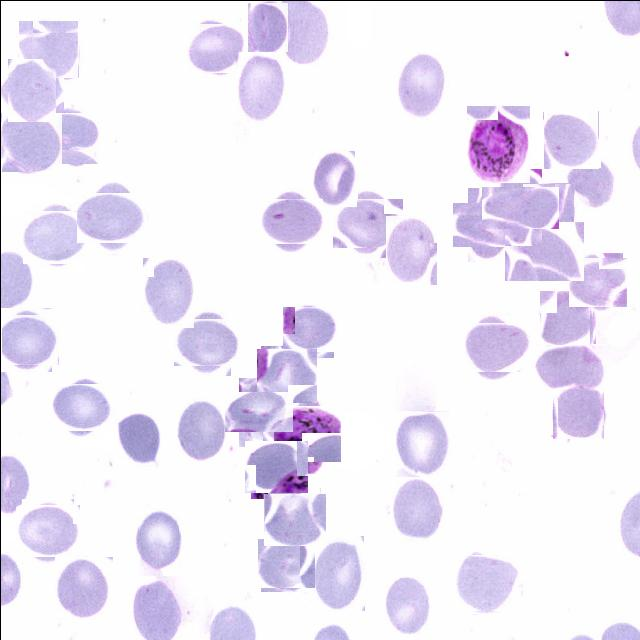difficult: (466, 104, 530, 182)
red blood cell: (504, 221, 583, 280), (312, 534, 364, 610), (0, 110, 61, 172), (26, 206, 87, 267), (81, 187, 142, 248), (394, 410, 450, 476), (142, 256, 194, 327), (385, 214, 437, 284), (337, 192, 397, 252), (490, 176, 550, 236), (235, 51, 285, 122), (456, 552, 515, 612), (54, 556, 112, 617), (459, 194, 518, 253), (18, 19, 78, 77), (390, 476, 443, 541), (18, 501, 76, 560), (174, 397, 226, 462), (177, 312, 235, 370), (247, 437, 305, 495), (258, 346, 316, 404), (397, 51, 447, 118), (265, 490, 322, 548), (542, 111, 600, 168), (534, 343, 604, 390), (468, 318, 524, 376), (538, 291, 594, 347), (0, 310, 55, 367), (4, 61, 59, 118), (230, 384, 286, 439), (43, 110, 98, 165), (54, 380, 109, 434), (382, 574, 430, 635), (138, 502, 178, 575), (551, 383, 605, 437), (188, 20, 242, 74), (258, 536, 312, 590), (570, 254, 624, 308), (264, 194, 318, 248), (522, 182, 574, 236), (112, 411, 160, 468), (284, 303, 336, 354), (312, 149, 357, 206), (564, 155, 614, 206), (247, 1, 288, 51)
schizont: (267, 400, 335, 467)
